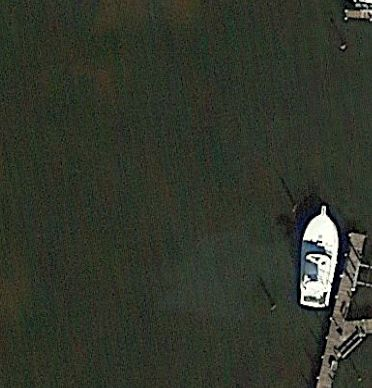boat: (298, 205, 341, 310)
